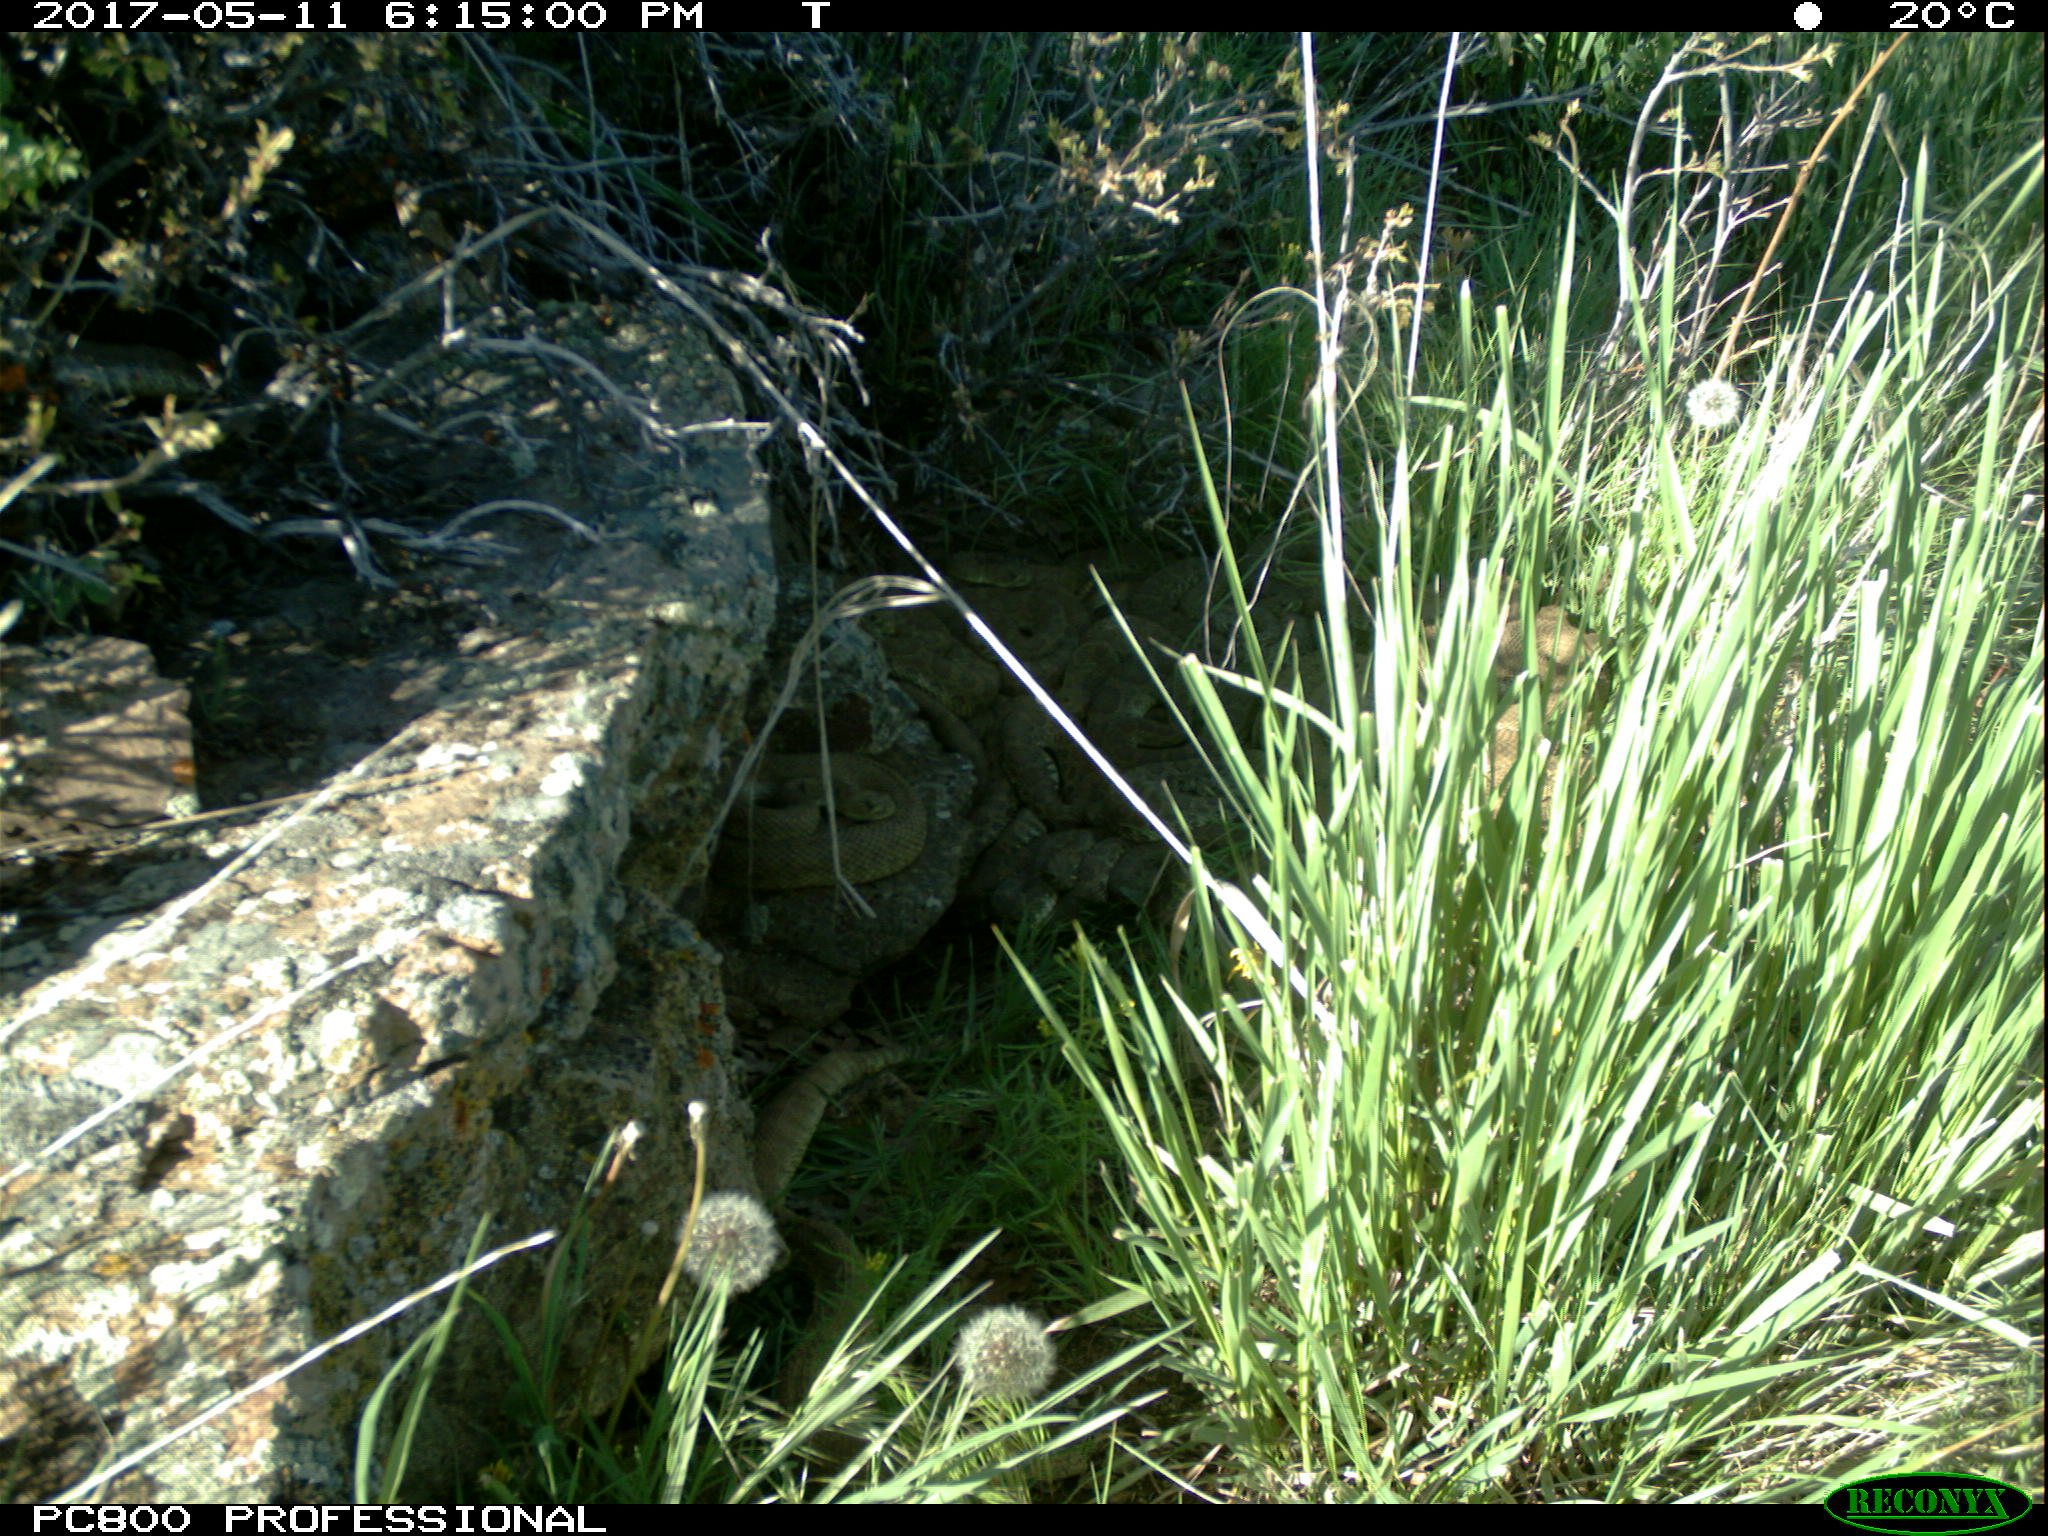snake: (992, 695, 1171, 908), (748, 1041, 948, 1207), (713, 745, 930, 889), (1097, 587, 1268, 765), (864, 561, 1085, 699), (1476, 613, 1596, 807), (772, 1213, 882, 1389)
